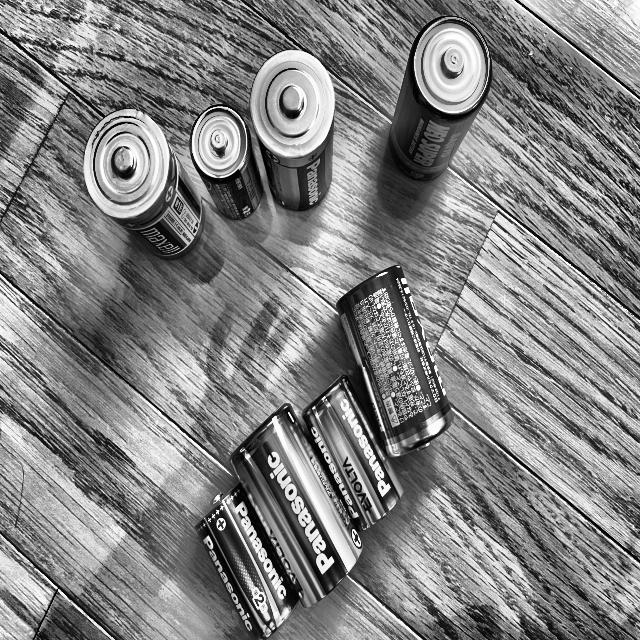drycell: (81, 102, 209, 264), (186, 100, 265, 222)
